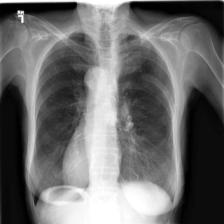normal: (25, 28, 182, 209)
